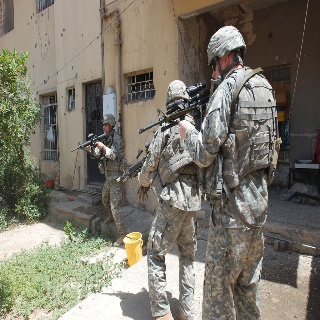rifle: (136, 81, 206, 136), (115, 151, 151, 183), (71, 131, 108, 152)
